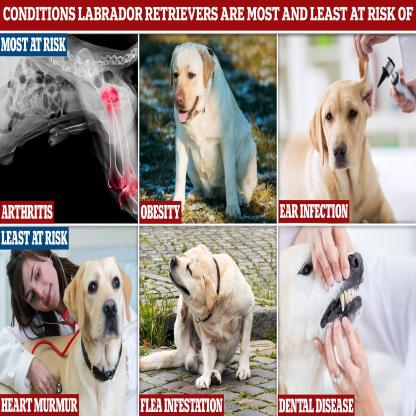Labarador Retriever: (0, 256, 135, 416), (281, 55, 396, 223), (141, 246, 256, 388), (168, 44, 256, 216), (279, 238, 363, 416)
